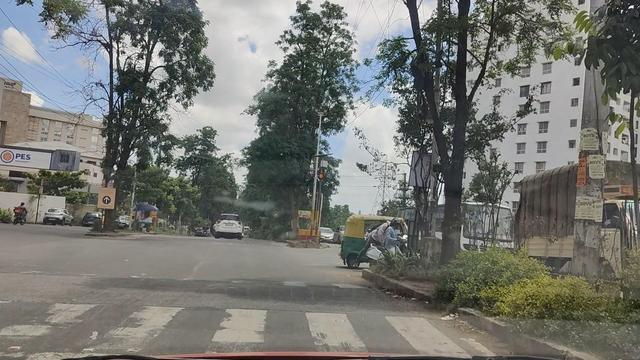SpeedBump: (0, 278, 444, 354)
